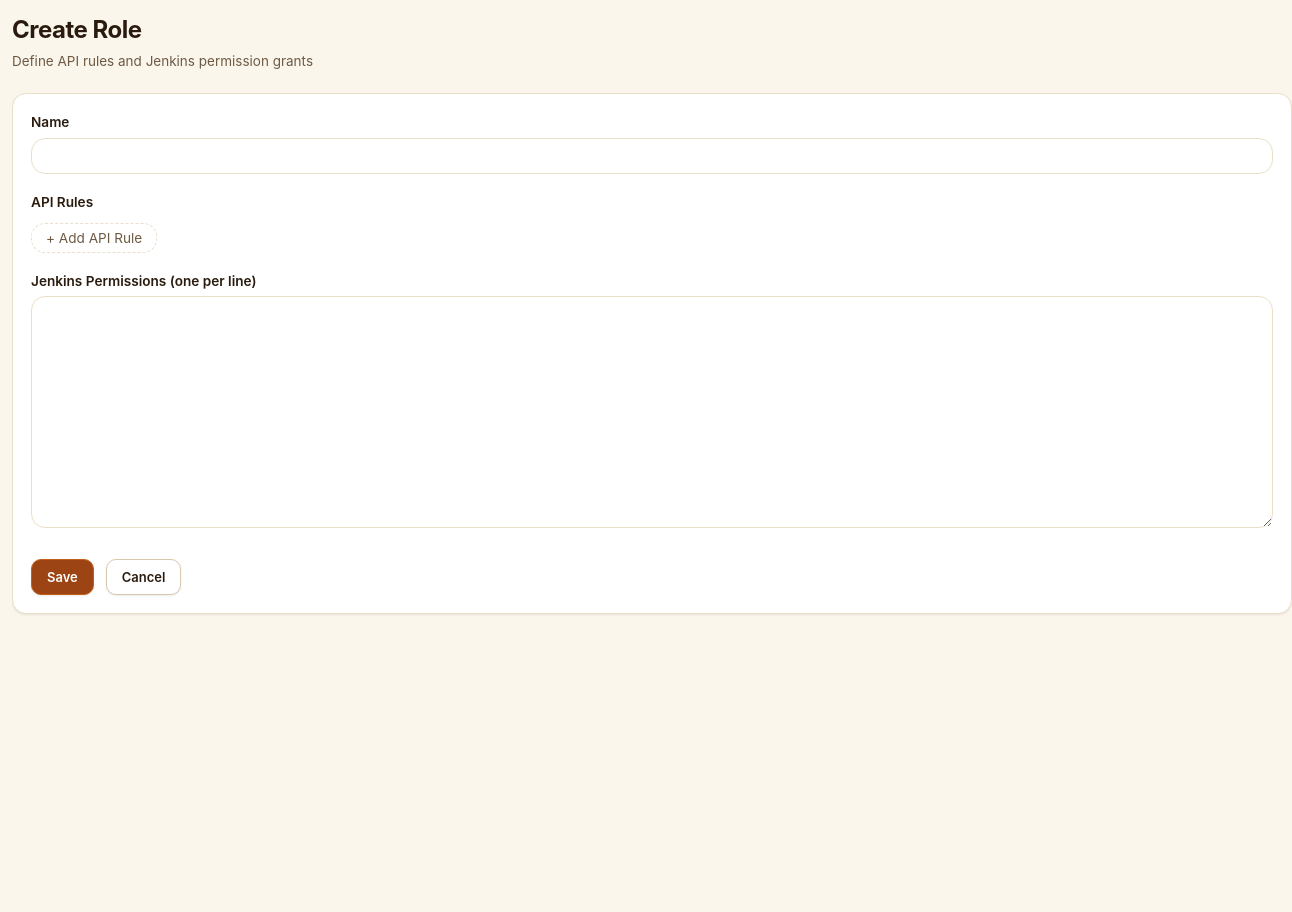
Test: RoleForm — create mode › shows the conflict message on a create over an existing name
Step 1. Type "my-role" into the field → (652,156), box left=31, top=138, right=1273, bottom=174
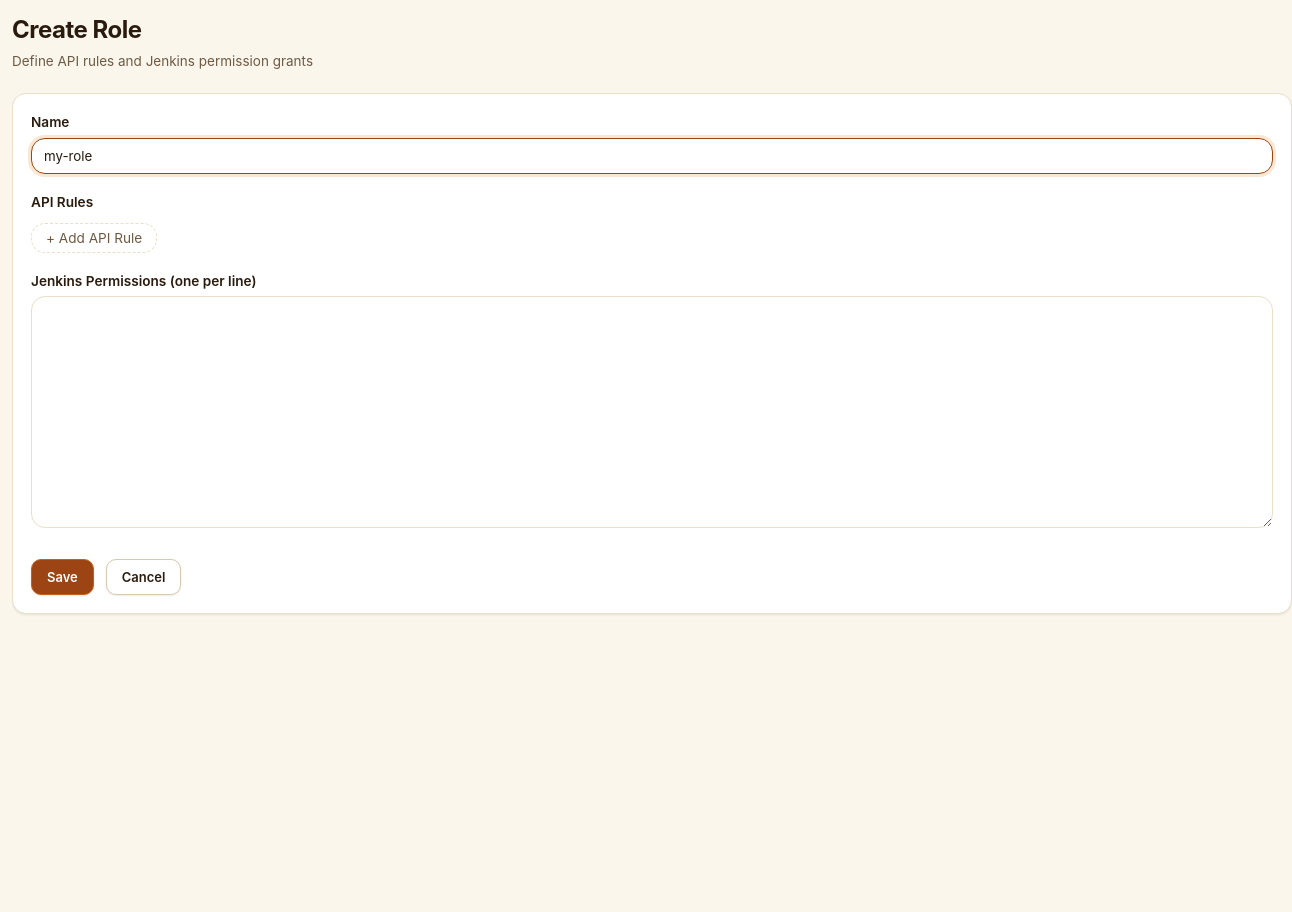
Step 2. Click the button "Save" → (62,576), box left=31, top=558, right=94, bottom=594
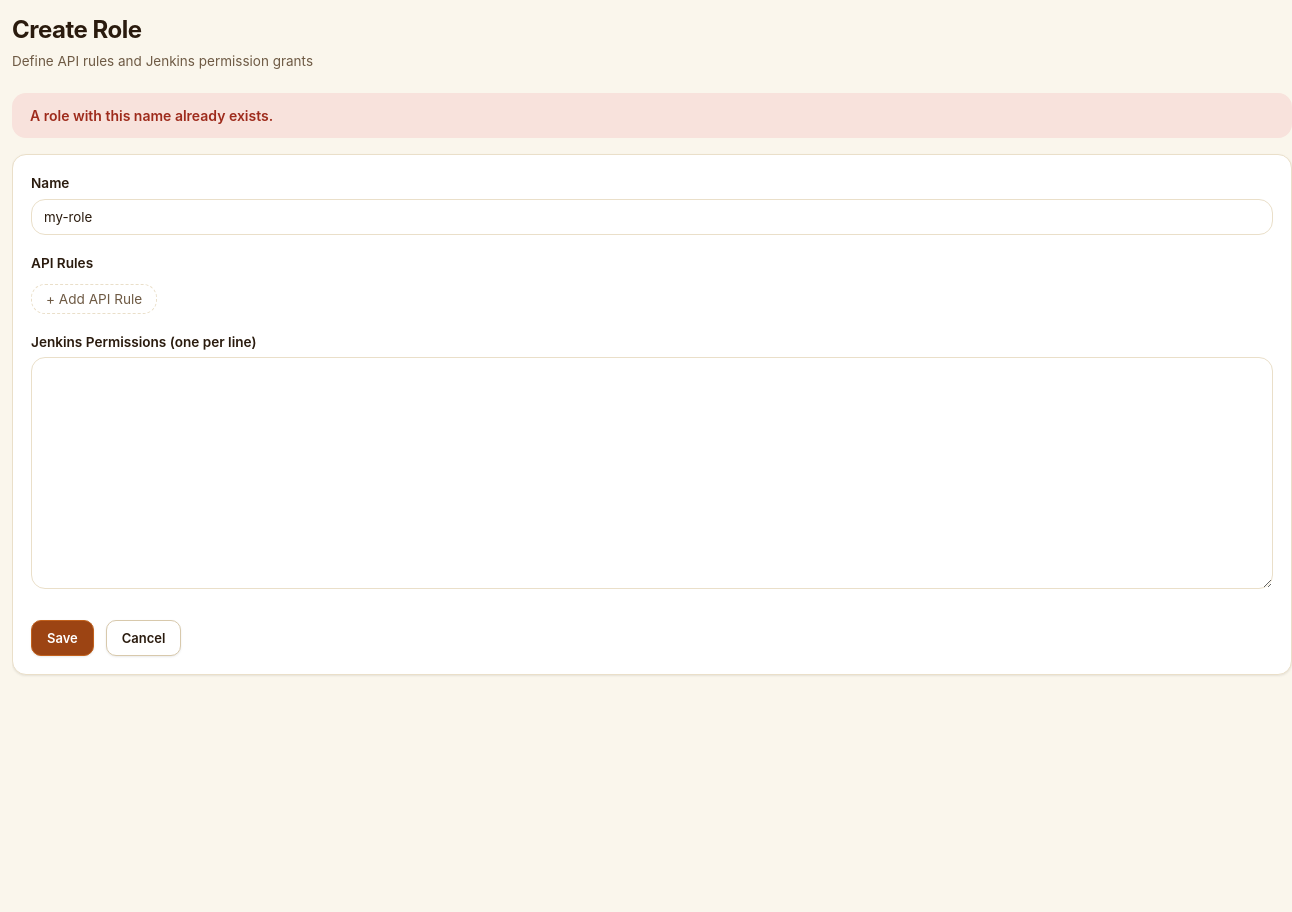
Expected: the text "A role with this name already exists." is shown, left=12, top=93, right=1291, bottom=138
